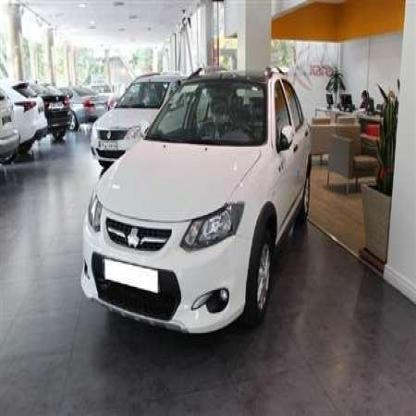Car: (79, 71, 318, 330), (83, 74, 197, 166), (38, 79, 78, 135), (7, 86, 42, 140), (0, 93, 15, 186), (74, 89, 103, 132)
